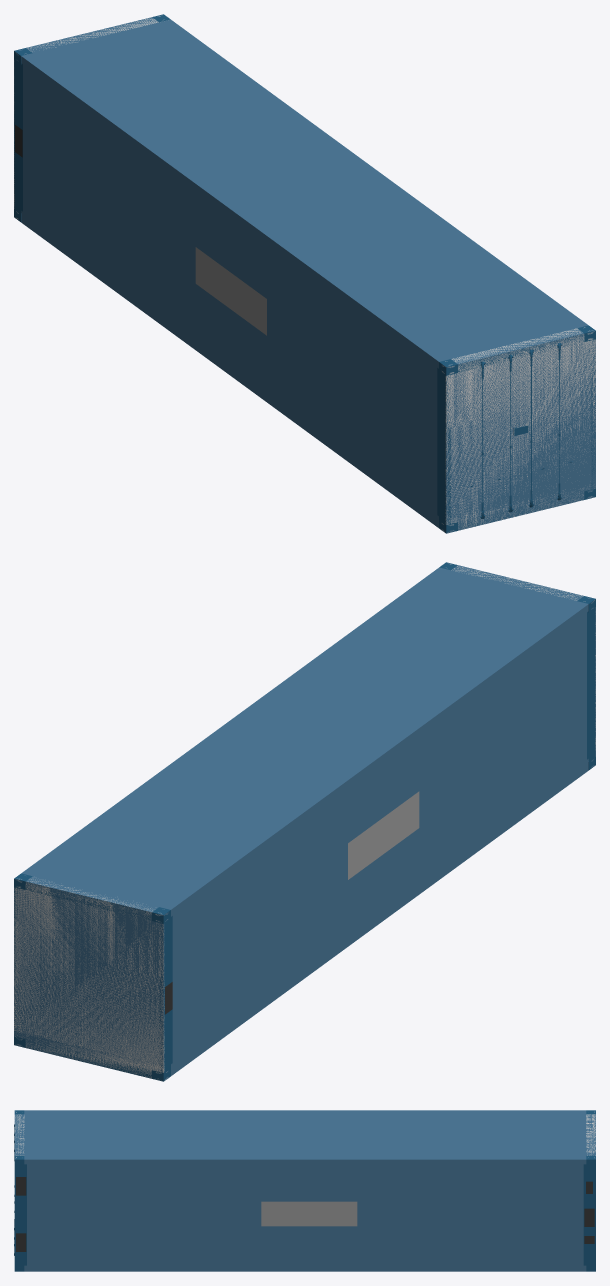
Rendered from containers_40_oilex.dae.
3 renders of one model, top to bottom at view 1: azimuth 30°, elevation 25°; view 2: azimuth 150°, elevation 25°; view 3: azimuth 270°, elevation 25°, orthographic. The views are drawn at different scales.
Visible parts, largest first — view 1: containers_40_oilex_a40, Colmesh_containers_40_oilex-1, containers_40_oilex_a1500, containers_40_oilex_a600, containers_40_oilex_a150; view 2: containers_40_oilex_a40, Colmesh_containers_40_oilex-1, containers_40_oilex_a1500, containers_40_oilex_a600, containers_40_oilex_a150; view 3: containers_40_oilex_a40, containers_40_oilex_a1500, Colmesh_containers_40_oilex-1, containers_40_oilex_a600, containers_40_oilex_a150.
Boxes of the visible parts, x1,y1,x2,y2 form: containers_40_oilex_a40: (14,15,595,533); Colmesh_containers_40_oilex-1: (14,16,595,532); containers_40_oilex_a1500: (14,14,595,533); containers_40_oilex_a600: (14,16,595,532); containers_40_oilex_a150: (446,332,595,531); containers_40_oilex_a40: (14,563,595,1079); Colmesh_containers_40_oilex-1: (14,564,595,1080); containers_40_oilex_a1500: (14,562,595,1081); containers_40_oilex_a600: (14,564,595,1080); containers_40_oilex_a150: (14,880,163,1081); containers_40_oilex_a40: (14,1110,595,1271); containers_40_oilex_a1500: (14,1110,595,1271); Colmesh_containers_40_oilex-1: (15,1112,595,1157); containers_40_oilex_a600: (14,1111,595,1271); containers_40_oilex_a150: (14,1159,595,1271).
Bounding box in the file's own units: 2.48 × 12.21 × 2.59.
